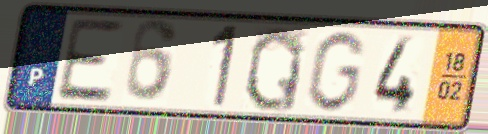1: (208, 23, 240, 111)
4: (370, 34, 419, 116)
6: (122, 15, 180, 111)
E: (52, 15, 126, 104)
G: (302, 28, 369, 115)
Q: (241, 23, 308, 115)
